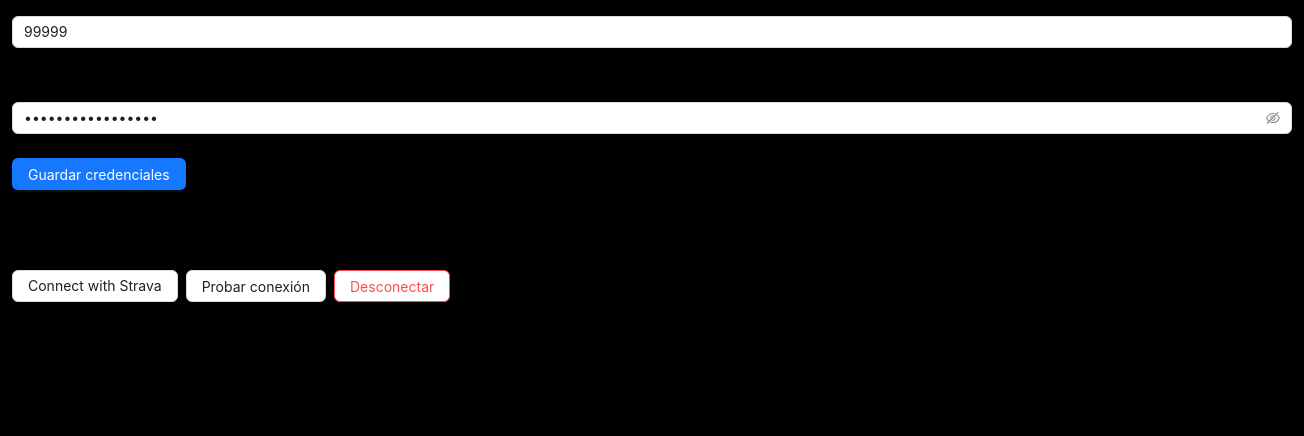
Test: StravaIntegration › con ok:false muestra el error del servidor y no cambia el estado
Click the button "Probar conexión" at (256, 286), box [186,270,326,302]
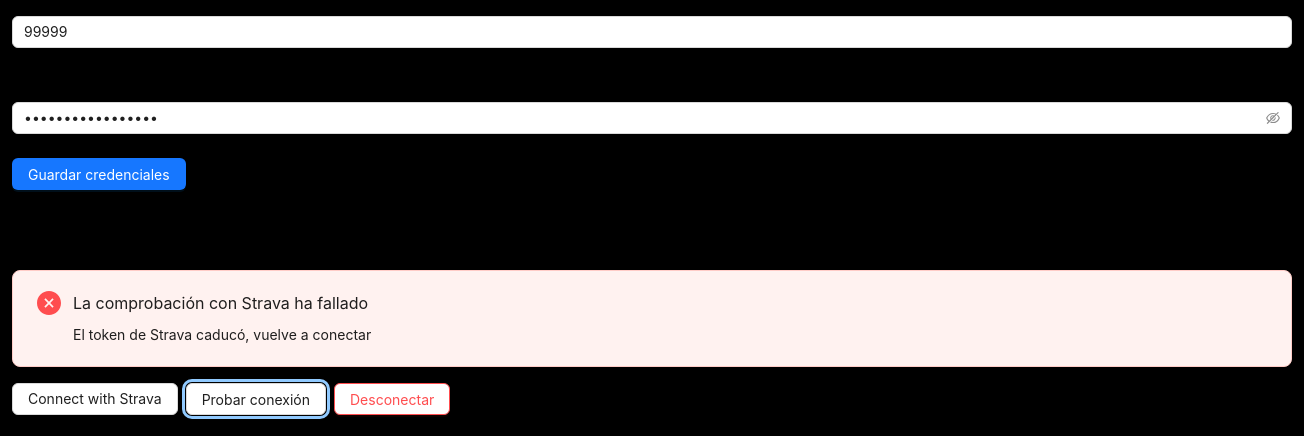
Result: the text "El token de Strava caducó, vuelve a conectar" is shown at [73,326,371,343]
